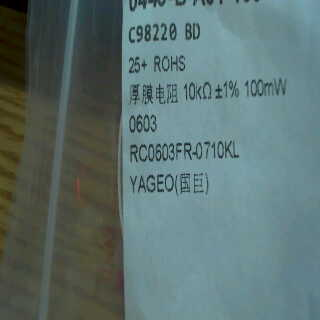10kR: (181, 80, 214, 103)
